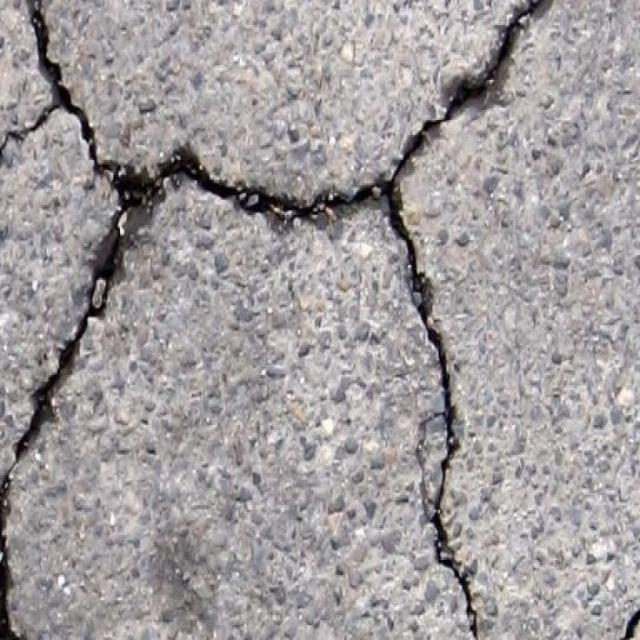crack: (0, 0, 167, 638), (394, 226, 480, 638), (387, 0, 557, 180), (168, 138, 409, 226)
